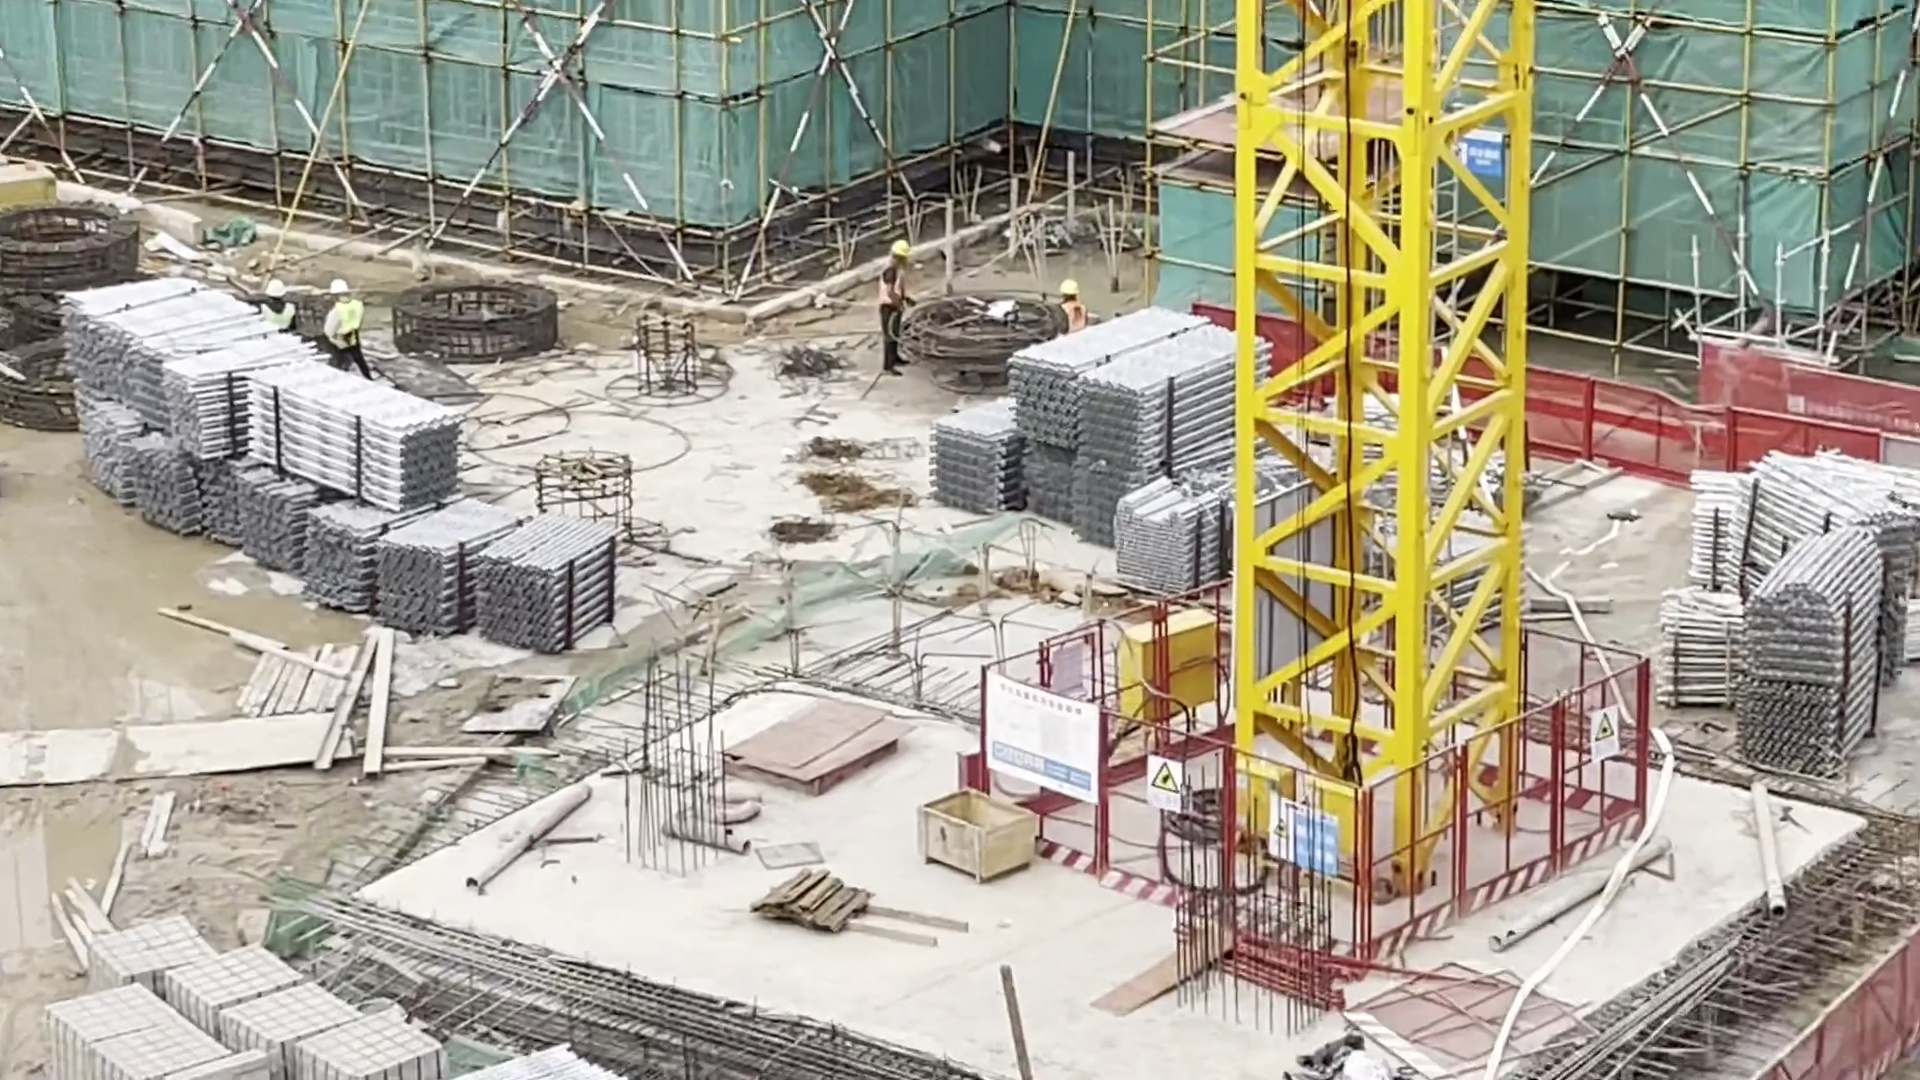brick: (50, 914, 441, 1080)
ebox: (1118, 608, 1216, 720), (1301, 774, 1363, 868), (1231, 756, 1296, 843)
helmet: (263, 280, 285, 300), (1060, 281, 1081, 296), (892, 241, 910, 256), (329, 279, 348, 293)
hopper: (920, 786, 1039, 884)
person: (321, 279, 382, 382), (878, 234, 919, 376), (1051, 280, 1089, 341), (255, 278, 301, 327)
scaffold: (69, 278, 631, 650), (937, 302, 1315, 578), (1663, 446, 1920, 782)
slogan: (976, 676, 1110, 811), (1264, 793, 1345, 886), (1143, 756, 1186, 815), (1457, 135, 1503, 181), (1589, 711, 1618, 757)
vest: (879, 264, 904, 308), (334, 302, 362, 334), (1061, 300, 1084, 337), (261, 303, 293, 328)
